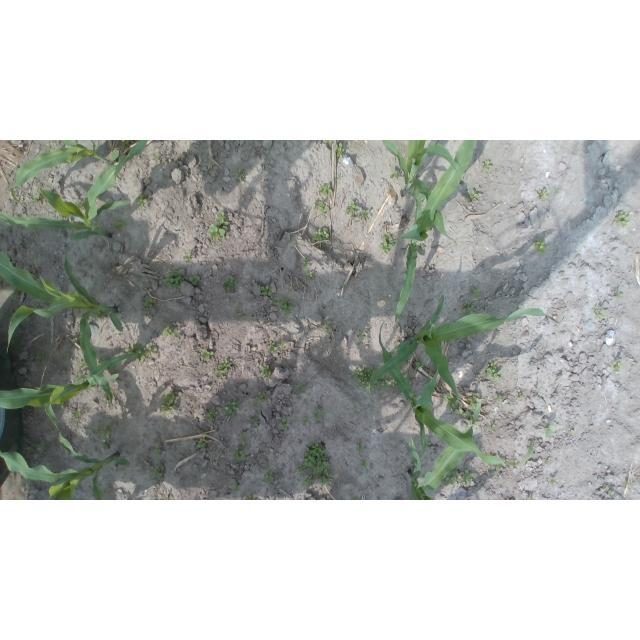Maize: (378, 320, 536, 466), (368, 295, 558, 402), (1, 250, 124, 405), (389, 140, 478, 324), (0, 384, 132, 499), (0, 140, 144, 239), (10, 141, 122, 204), (382, 141, 456, 228), (405, 436, 437, 501)
Weeds: (294, 442, 334, 486), (444, 392, 473, 419), (353, 366, 378, 392), (208, 211, 228, 242), (93, 420, 112, 449), (163, 267, 185, 290), (345, 201, 371, 220), (160, 392, 179, 417), (273, 297, 296, 316), (483, 361, 502, 382), (379, 232, 397, 254), (73, 359, 89, 383), (225, 399, 239, 422), (216, 359, 233, 377), (230, 446, 248, 462), (379, 375, 398, 390), (312, 228, 329, 244), (222, 275, 237, 293), (110, 220, 130, 233), (25, 445, 51, 455), (444, 470, 460, 486), (318, 181, 333, 197), (461, 470, 475, 487), (615, 211, 629, 228), (534, 237, 547, 255), (314, 200, 329, 215), (125, 343, 144, 354), (250, 392, 267, 404), (246, 413, 260, 427), (136, 194, 148, 210), (294, 380, 307, 394), (90, 308, 105, 320), (34, 346, 46, 361), (542, 423, 554, 438), (74, 198, 87, 211), (144, 344, 157, 357), (462, 302, 475, 315), (278, 417, 290, 431), (481, 159, 493, 173), (594, 305, 605, 320), (151, 466, 163, 479), (237, 432, 249, 445), (259, 365, 271, 378), (390, 168, 403, 180), (414, 358, 426, 371), (537, 188, 549, 201), (207, 410, 218, 424), (264, 469, 275, 483), (470, 393, 479, 410), (201, 349, 213, 361), (467, 190, 479, 202), (162, 324, 173, 337), (198, 439, 209, 452), (488, 464, 505, 472), (183, 251, 195, 262), (313, 408, 324, 420), (612, 360, 623, 372), (235, 169, 245, 182), (356, 439, 365, 453), (302, 256, 311, 270), (188, 275, 200, 285), (267, 341, 277, 353), (260, 285, 272, 295), (336, 142, 344, 157), (358, 328, 367, 341), (154, 444, 162, 457), (143, 297, 153, 307), (71, 408, 81, 418), (566, 427, 576, 437), (416, 243, 426, 253), (471, 288, 482, 297), (159, 493, 173, 500), (244, 493, 257, 500), (360, 459, 369, 469), (279, 339, 287, 350), (549, 476, 560, 484), (43, 141, 52, 150), (553, 187, 563, 195), (307, 271, 314, 282), (103, 486, 114, 493), (133, 356, 145, 362), (172, 329, 180, 338), (233, 482, 241, 491), (323, 325, 332, 333), (238, 312, 247, 320), (120, 141, 133, 146), (32, 194, 40, 202), (495, 395, 504, 402), (626, 480, 633, 489), (615, 292, 624, 299), (491, 423, 497, 433), (302, 417, 309, 425), (324, 140, 333, 146), (153, 153, 160, 160), (465, 419, 472, 426), (608, 489, 615, 496), (72, 337, 78, 344), (334, 174, 341, 180), (516, 392, 523, 398), (353, 404, 359, 411), (547, 459, 553, 465), (351, 496, 358, 501), (404, 373, 409, 379), (526, 496, 532, 501), (603, 486, 609, 491), (475, 422, 482, 426), (78, 258, 83, 263), (60, 403, 64, 409), (340, 285, 345, 289), (102, 396, 106, 400)
